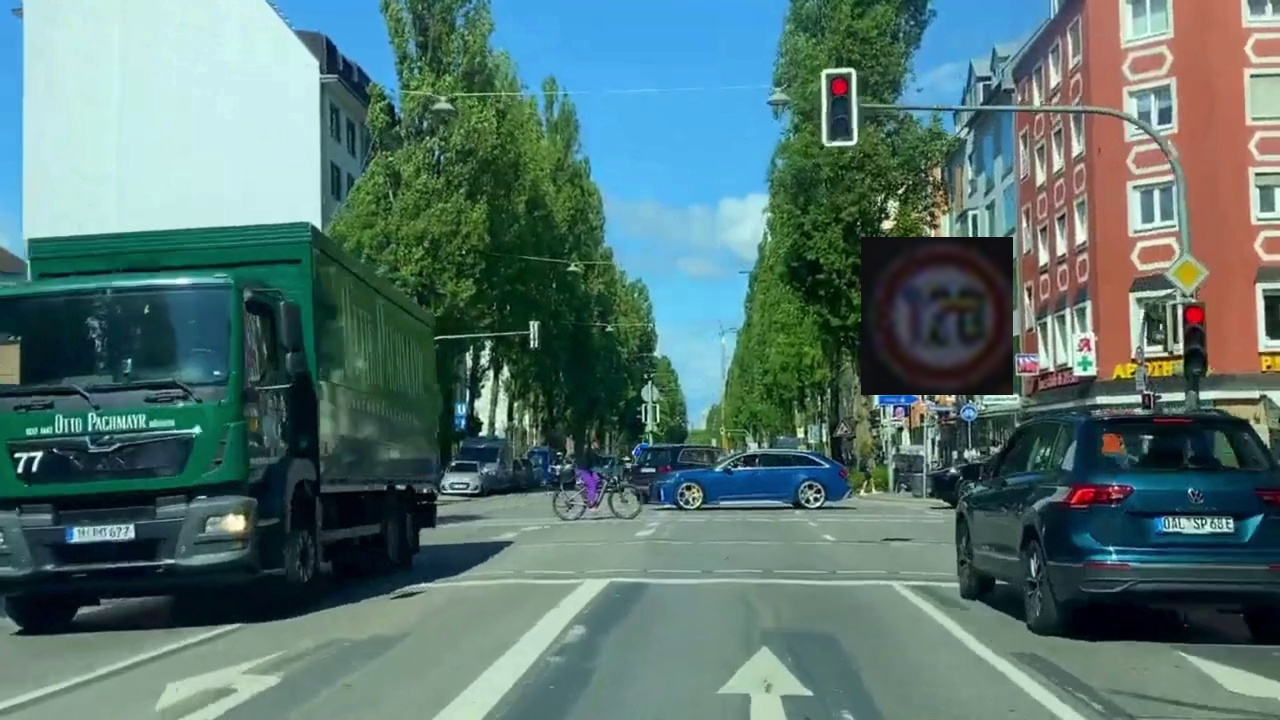Speed 120: (861, 237, 1013, 395)
